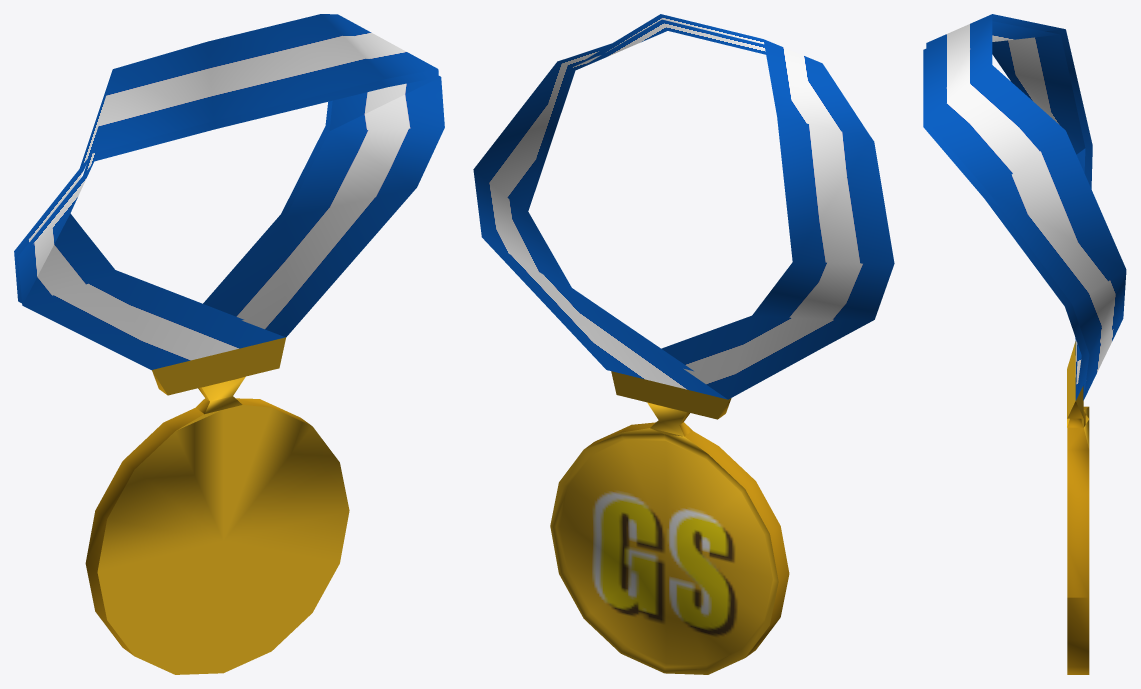
Rendered from icon2.ico.obj.
The picture shows the model from 3 angles, left to right: view 1: azimuth 30°, elevation 25°; view 2: azimuth 150°, elevation 25°; view 3: azimuth 270°, elevation 25°; orthographic projection. The views are drawn at different scales.
Size of the model in its own units: 2.97 by 4.32 by 1.28.
Materials: 1 (1 with a texture image).
